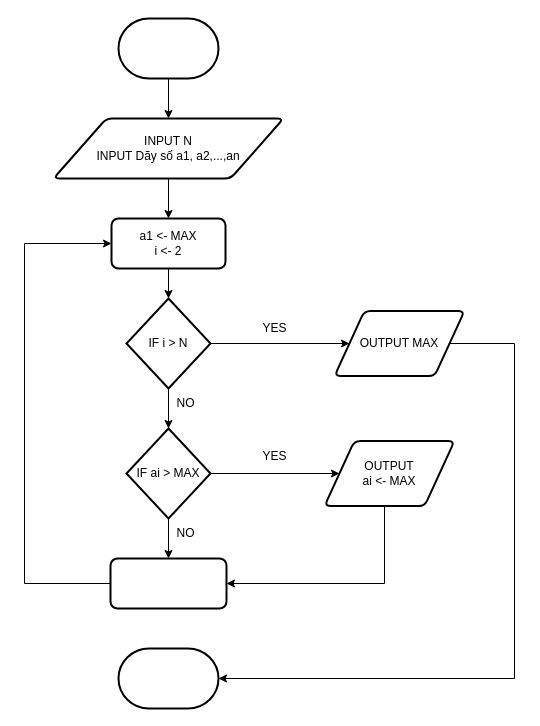
Some shapes in this 540 by 726 pixel diagram are drawn without their labels. Here are the shapes that lost their labels. From the top down, the centre of each, then its label:
the point at 168,48: START
the point at 168,583: i = i+1
the point at 168,678: END
